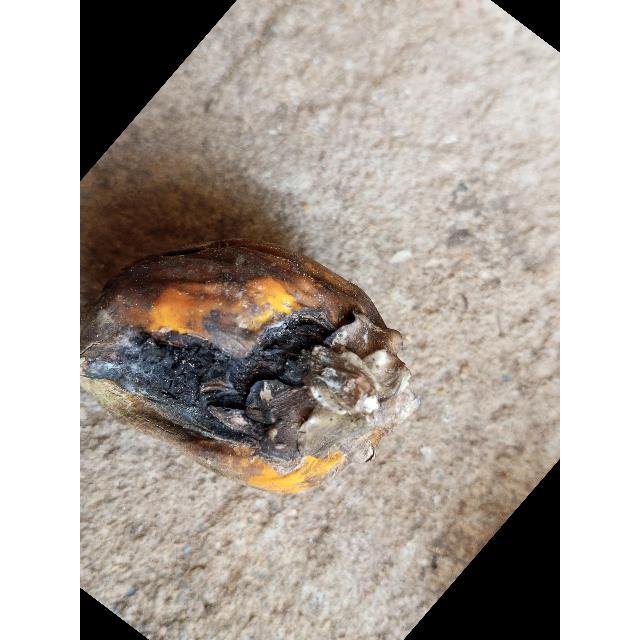damaged: (80, 239, 418, 496)
